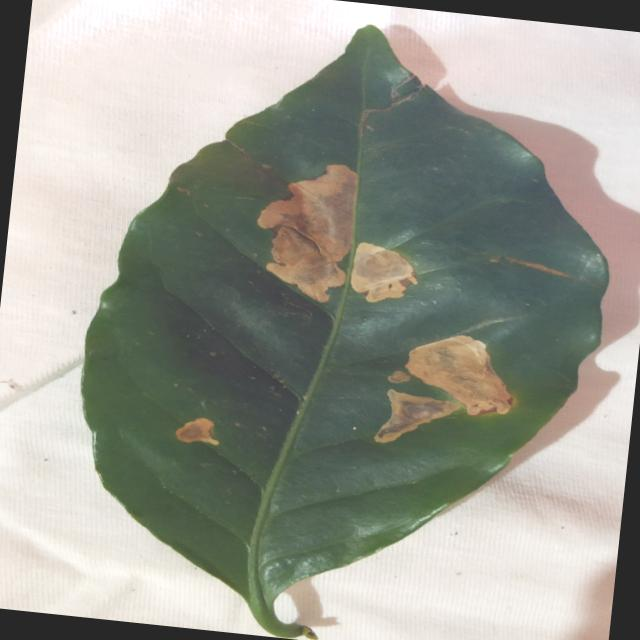KaratDaunKopi: (257, 164, 357, 301), (405, 335, 511, 414), (374, 389, 459, 442), (351, 242, 417, 302), (503, 257, 571, 278), (176, 417, 219, 444), (388, 370, 410, 383)
